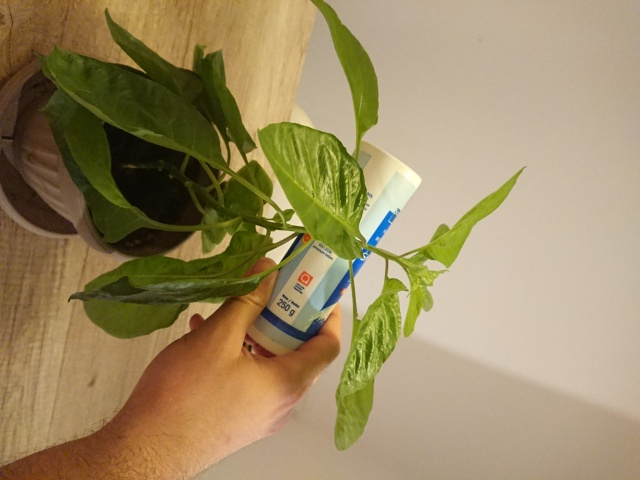Solana Pag Fine Sea Salt 250g: (234, 136, 425, 362)
